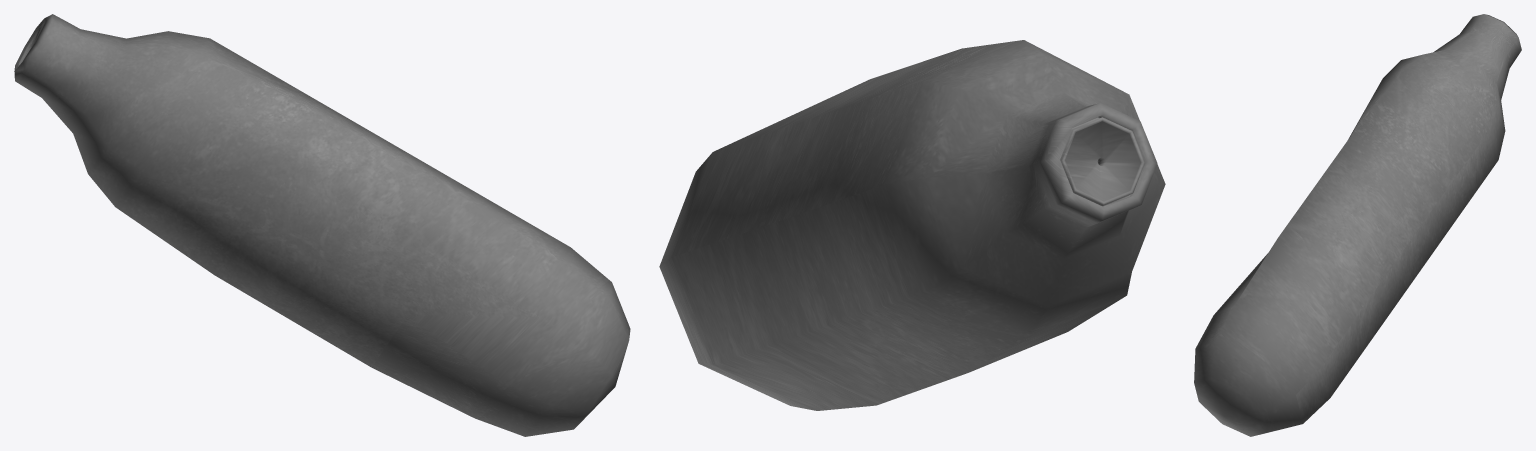
File: GAS17.glb
3 views of the same model, side by side, from view 1: azimuth 30°, elevation 25°; view 2: azimuth 150°, elevation 25°; view 3: azimuth 270°, elevation 25° (orthographic). The views are drawn at different scales.
Parts seen in each view (by area): view 1: BezierCurve.003; view 2: BezierCurve.003; view 3: BezierCurve.003.
Part boxes in pixels (left/top/right/bottom): BezierCurve.003: left=14, top=14, right=630, bottom=436; BezierCurve.003: left=659, top=40, right=1165, bottom=410; BezierCurve.003: left=1194, top=14, right=1521, bottom=436.
Bounding box in the file's own units: 2.25 × 1.82 × 1.86.
Materials: 1 (1 with a texture image).
